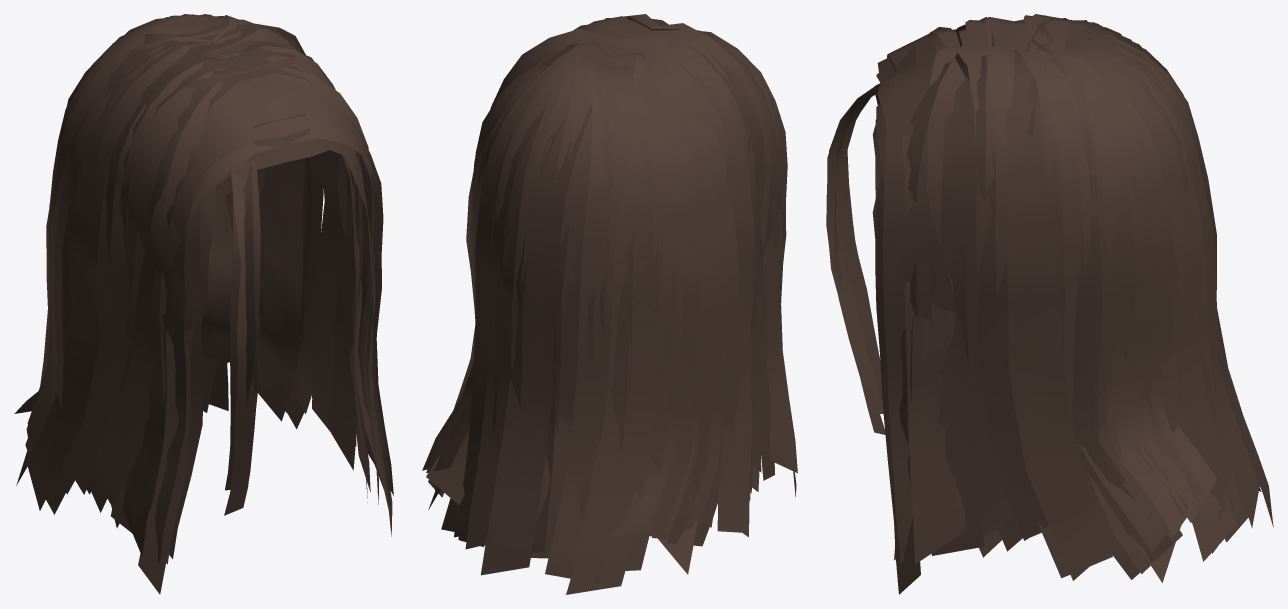
The model's file is peloangel.fbx.
3 renders of one model, left to right at view 1: azimuth 30°, elevation 25°; view 2: azimuth 150°, elevation 25°; view 3: azimuth 270°, elevation 25°, orthographic. The views are drawn at different scales.
Visible parts, largest first — view 1: polySurface27, polySurface24, polySurface32, polySurface31, polySurface28, polySurface23, polySurface29, polySurface19, polySurface17, polySurface4, polySurface5, polySurface52 (+19 smaller); view 2: polySurface8, polySurface15, polySurface10, polySurface50, polySurface52, polySurface42, polySurface60, polySurface51, polySurface16, polySurface5, polySurface45, polySurface17 (+29 smaller); view 3: polySurface17, polySurface5, polySurface42, polySurface38, polySurface13, polySurface31, polySurface27, polySurface41, polySurface53, polySurface19, polySurface23, polySurface26 (+23 smaller).
Boxes of the visible parts, bbox=[...] form: polySurface27: bbox=[150, 80, 390, 563]; polySurface24: bbox=[16, 20, 305, 485]; polySurface32: bbox=[138, 113, 392, 594]; polySurface31: bbox=[95, 125, 378, 500]; polySurface28: bbox=[159, 67, 378, 558]; polySurface23: bbox=[64, 25, 292, 494]; polySurface29: bbox=[111, 92, 371, 527]; polySurface19: bbox=[94, 45, 356, 506]; polySurface17: bbox=[26, 25, 298, 510]; polySurface4: bbox=[87, 40, 346, 494]; polySurface5: bbox=[122, 80, 393, 556]; polySurface52: bbox=[25, 27, 168, 454]; polySurface8: bbox=[481, 89, 601, 575]; polySurface15: bbox=[566, 178, 662, 594]; polySurface10: bbox=[545, 65, 631, 583]; polySurface50: bbox=[606, 66, 700, 533]; polySurface52: bbox=[620, 65, 739, 546]; polySurface42: bbox=[458, 52, 599, 539]; polySurface60: bbox=[615, 66, 727, 539]; polySurface51: bbox=[613, 66, 721, 536]; polySurface16: bbox=[465, 117, 566, 549]; polySurface5: bbox=[721, 46, 797, 473]; polySurface45: bbox=[536, 64, 612, 522]; polySurface17: bbox=[455, 40, 755, 537]; polySurface17: bbox=[1005, 15, 1117, 580]; polySurface5: bbox=[901, 38, 965, 564]; polySurface42: bbox=[1064, 45, 1245, 541]; polySurface38: bbox=[1007, 267, 1102, 545]; polySurface13: bbox=[1062, 49, 1186, 535]; polySurface31: bbox=[876, 73, 1006, 526]; polySurface27: bbox=[882, 34, 936, 562]; polySurface41: bbox=[1063, 47, 1217, 522]; polySurface53: bbox=[997, 22, 1182, 573]; polySurface19: bbox=[940, 17, 1014, 536]; polySurface23: bbox=[978, 15, 1052, 540]; polySurface26: bbox=[1077, 154, 1188, 551].
Size of the model in its own units: 0.3658 by 0.5575 by 0.4494.
